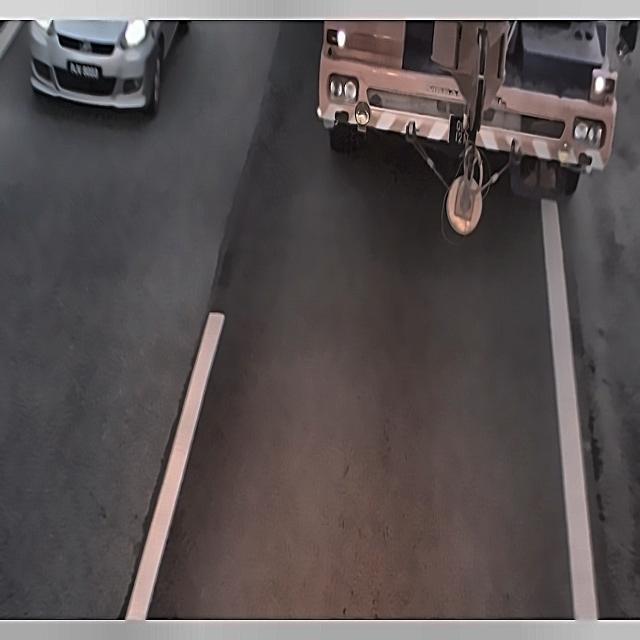car: (62, 53, 104, 90), (451, 110, 477, 149)
